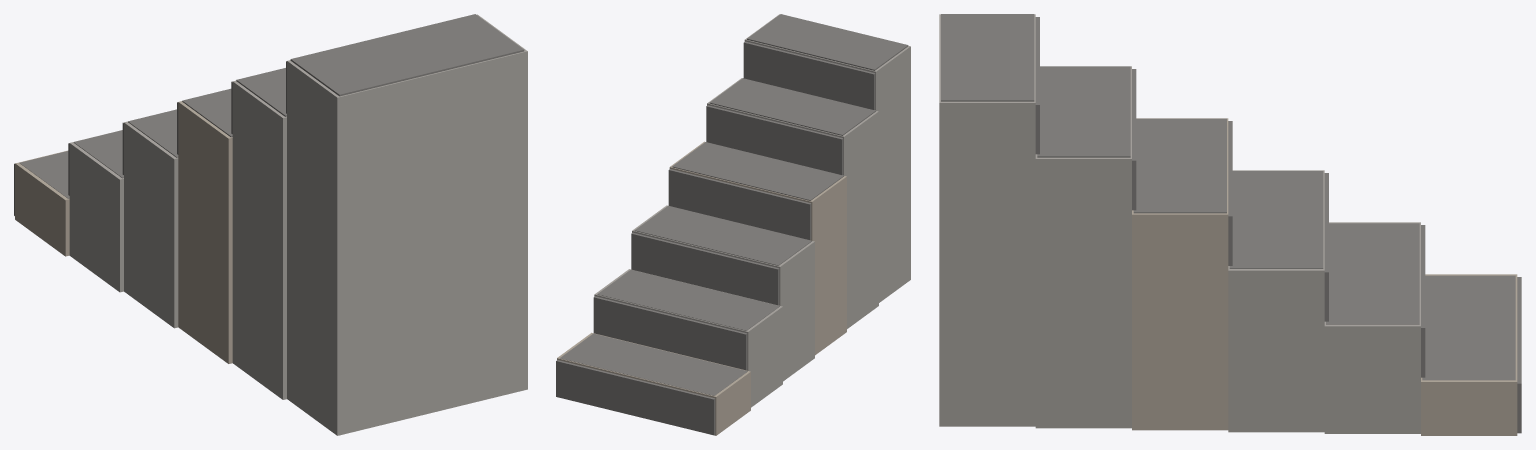
Rendered from stone_stairs.fbx.
3 renders of one model, left to right at view 1: azimuth 30°, elevation 25°; view 2: azimuth 150°, elevation 25°; view 3: azimuth 270°, elevation 25°, orthographic. The views are drawn at different scales.
Visible parts, largest first — view 1: StoneStairs; view 2: StoneStairs; view 3: StoneStairs.
Boxes of the visible parts, x1=… form: StoneStairs: x1=14, y1=14, x2=527, y2=435; StoneStairs: x1=556, y1=14, x2=910, y2=435; StoneStairs: x1=939, y1=14, x2=1521, y2=435.
Bounding box in the file's own units: 1.8 × 2.53 × 4.11.
